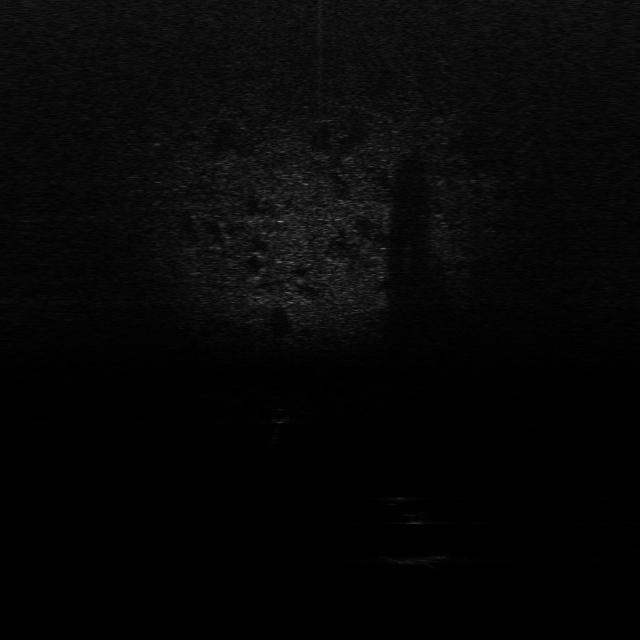ball: (269, 406, 293, 424)
metal bucket: (382, 550, 451, 570)
tyre: (378, 494, 431, 529)
